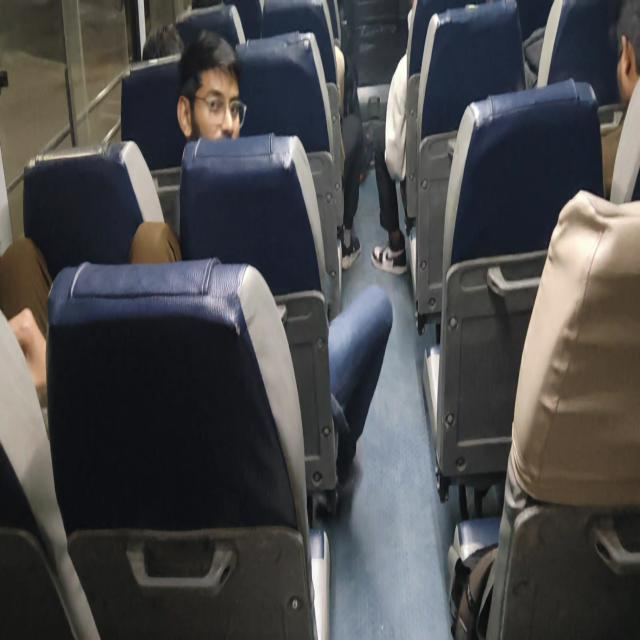person: (130, 29, 393, 488), (0, 220, 182, 404), (371, 0, 481, 275), (129, 29, 247, 264), (370, 1, 417, 275), (599, 0, 639, 204), (176, 29, 247, 142)
